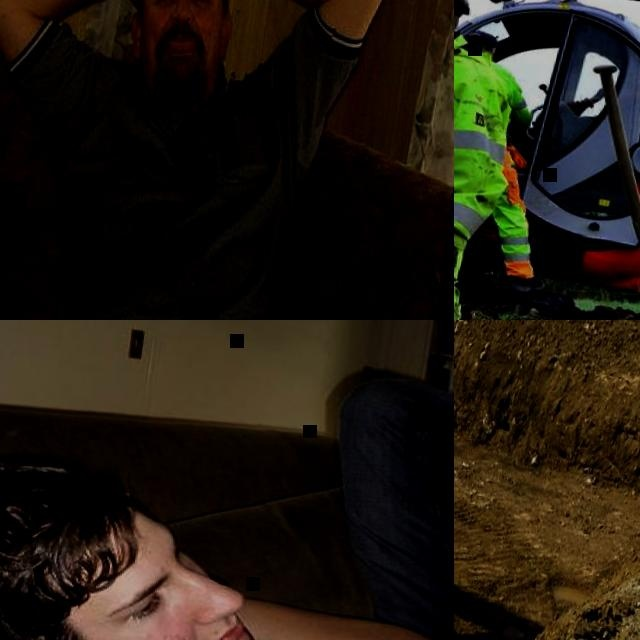NO-Hardhat: (0, 430, 150, 640), (464, 29, 500, 49)
NO-Mask: (128, 13, 232, 107), (145, 569, 268, 640)
NO-Safety Vest: (45, 56, 325, 320)
Person: (0, 320, 454, 640), (0, 0, 389, 320), (454, 0, 531, 320), (476, 128, 566, 306), (454, 24, 547, 140)
Safety Vest: (454, 28, 520, 273), (454, 92, 538, 269), (454, 50, 525, 133)
machinery: (454, 0, 640, 320)
